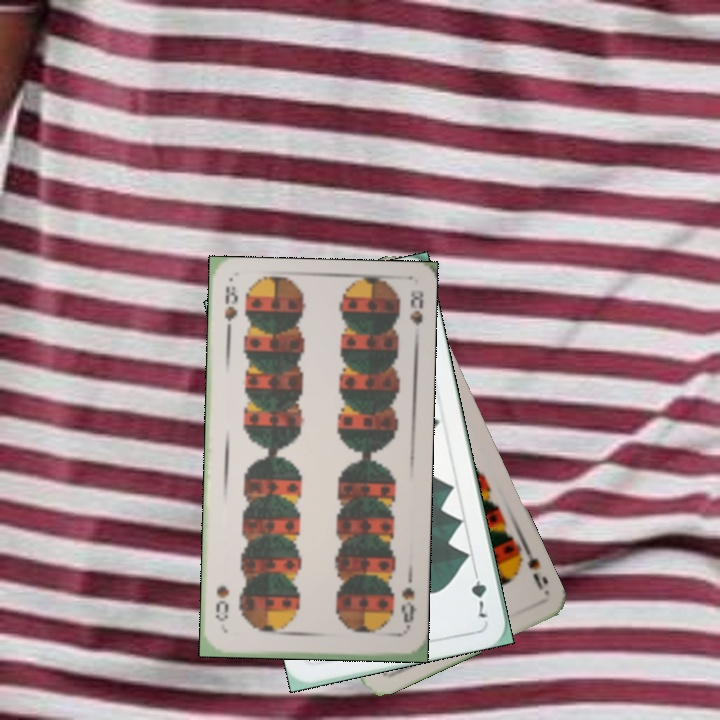G7: (467, 563, 491, 622)
S8: (393, 583, 418, 635), (221, 282, 240, 341)
S9: (511, 538, 551, 594)
